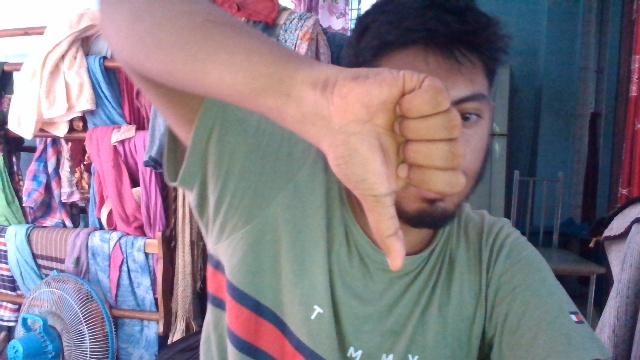no: (324, 47, 470, 286)
